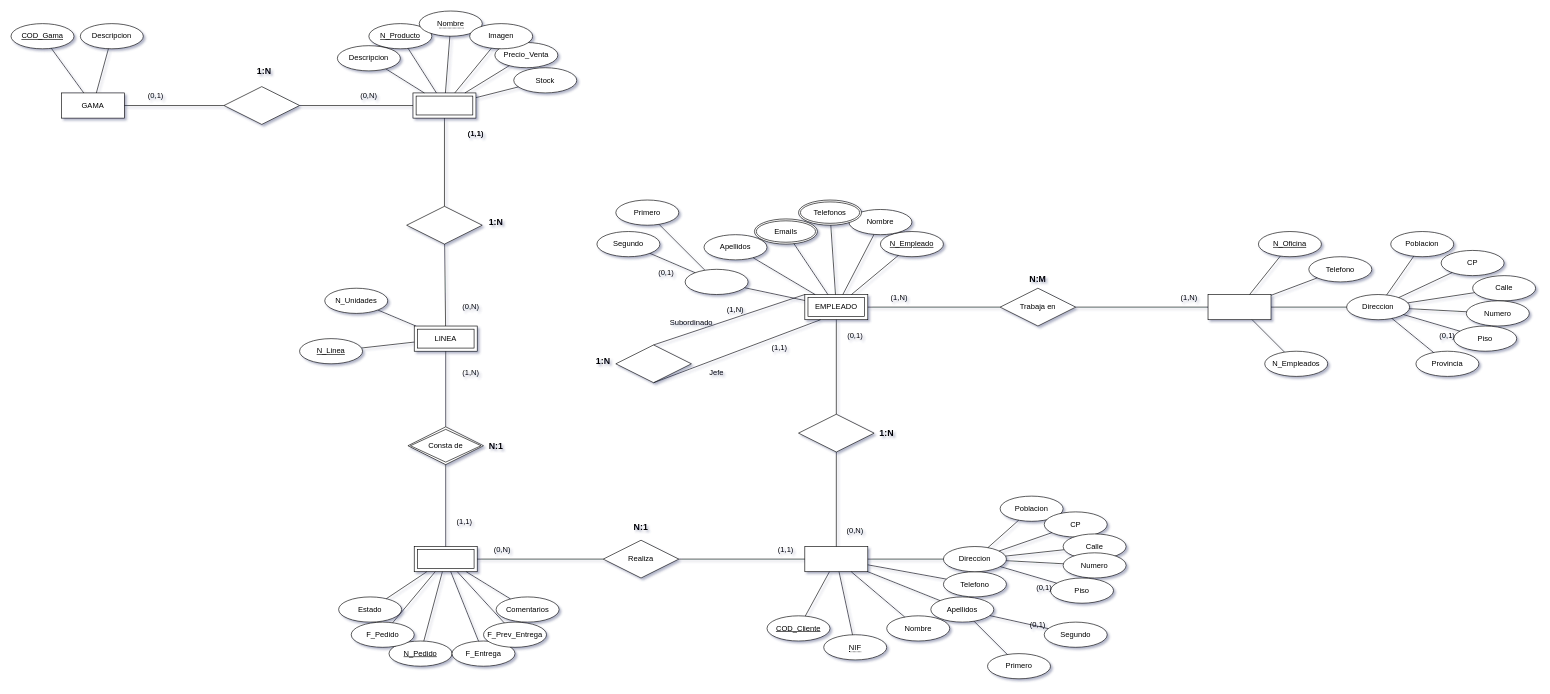
Some shapes in this 1550 by 694 pixel diagram are drawn without their labels. Each missing label, with the centre of its shape:
CLIENTE: point 836,559
Es de: point 261,105
Es jefe: point 653,363
Forma: point 444,225
OFICINA: point 1239,307
PEDIDO: point 445,559
PRODUCTO: point 444,105
Puesto: point 716,282
Rep Ventas: point 836,433
